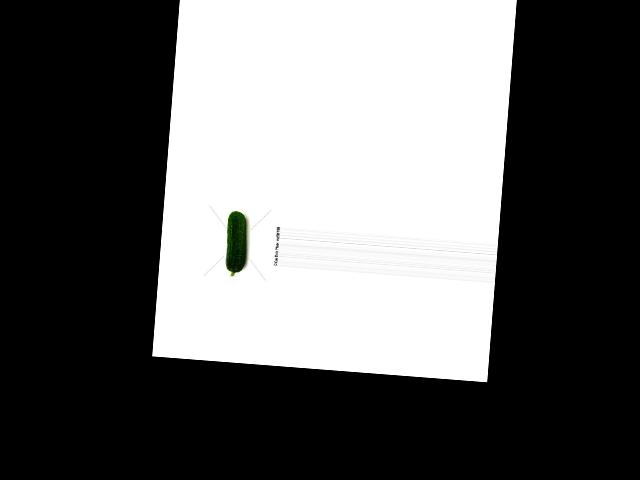cucumber: (224, 210, 249, 277)
